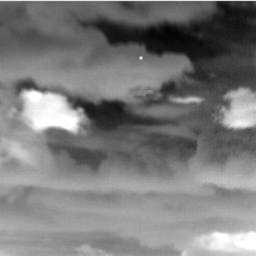Target: (138, 55, 143, 60)
